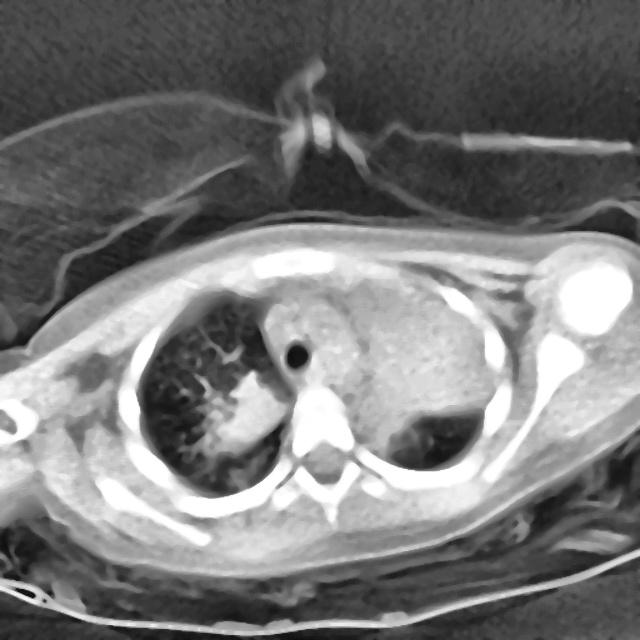covid: (0, 211, 639, 622)
